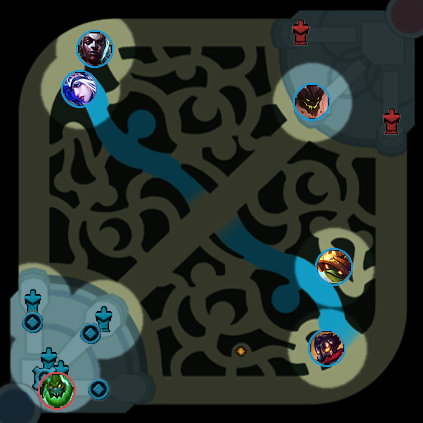Ashe: (61, 70, 99, 108)
Ekko: (76, 30, 114, 68)
Malphite: (293, 83, 331, 121)
Rammus: (315, 248, 353, 286)
Viktor: (308, 329, 346, 367)
Zac: (38, 372, 76, 410)
